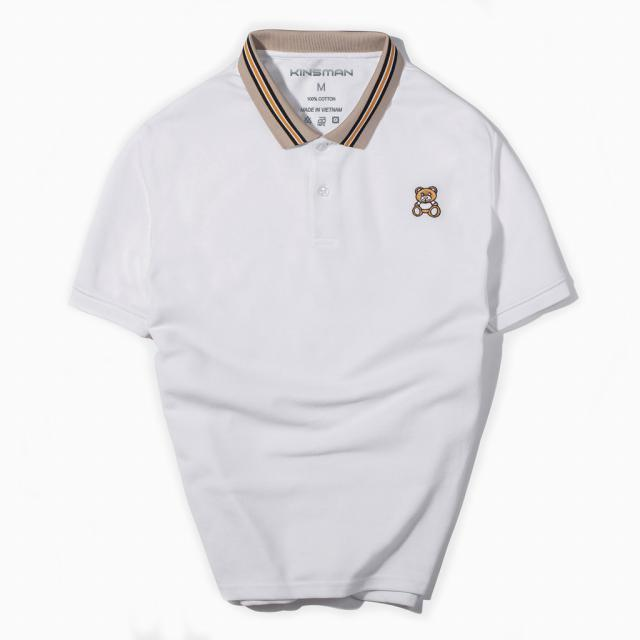Shirt: (65, 24, 585, 618)
